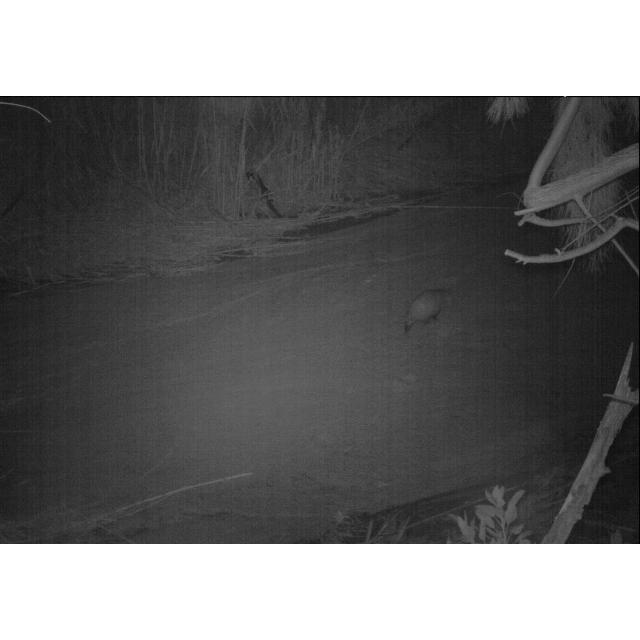animals: (404, 286, 454, 334)
